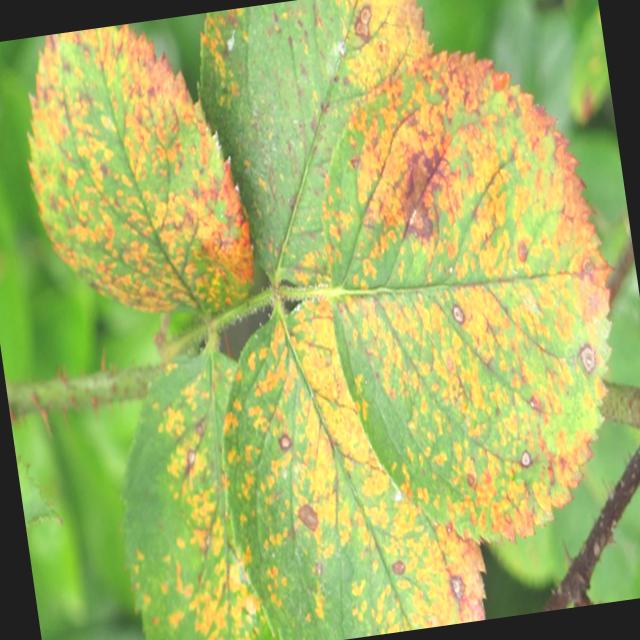leaf_rust: (7, 0, 611, 640)
